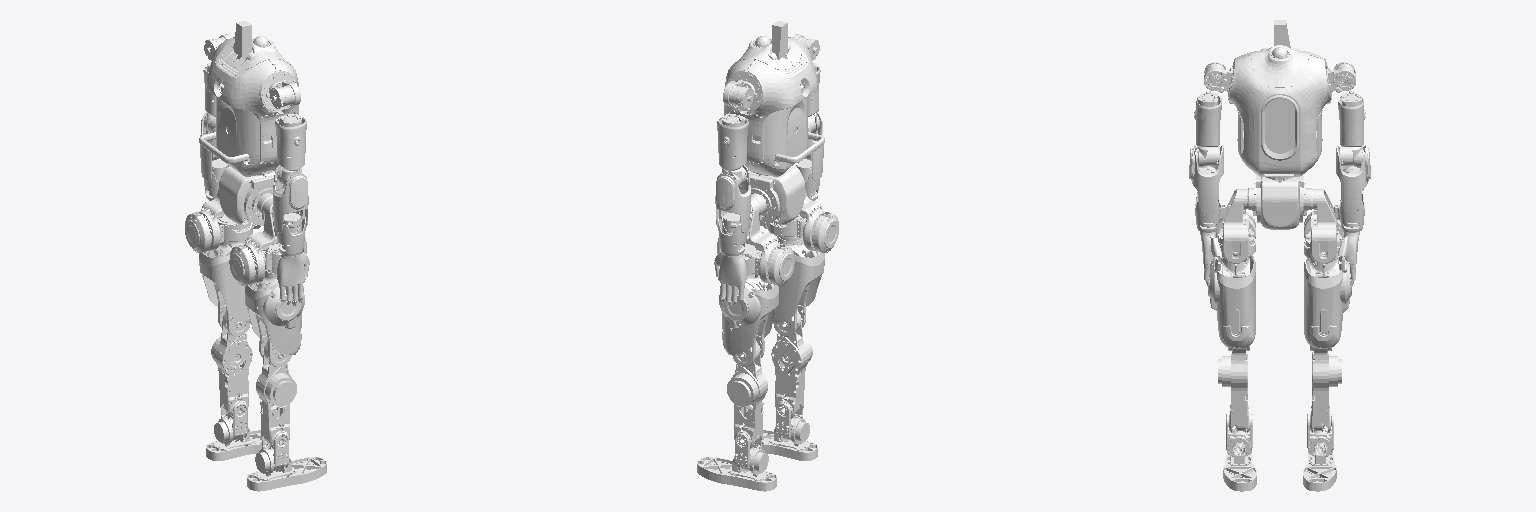
--- What the picture shows (computed from the rendered views, not written in the file) ---
3 views of the same robot in one strip: view 1: azimuth 30°, elevation 25°; view 2: azimuth 150°, elevation 25°; view 3: azimuth 270°, elevation 25° (orthographic).
Model orca_ydescription with 29 links and 28 joints (28 revolute), rooted at base_link, posed all joints at 0.
Links seen in each view (by area): view 1: waist_yaw_link1, rleg_link3, lleg_link3, lleg_link4, rleg_link4, base_link, rleg_link1, rarm_link6, rarm_link3, rleg_link6, lleg_link1, rarm_link4 (+5 smaller); view 2: waist_yaw_link1, lleg_link3, rleg_link3, rleg_link4, lleg_link4, base_link, lleg_link1, larm_link6, larm_link3, lleg_link6, rleg_link1, larm_link4 (+5 smaller); view 3: waist_yaw_link1, rleg_link3, lleg_link3, base_link, lleg_link1, rleg_link1, lleg_link4, rleg_link4, larm_link3, rarm_link3, larm_link4, rarm_link4 (+8 smaller).
Boxes of the visible links, x1,y1,x2,y2 form: waist_yaw_link1: [199, 21, 298, 176]; rleg_link3: [245, 270, 304, 366]; lleg_link3: [199, 240, 250, 336]; lleg_link4: [211, 316, 252, 418]; rleg_link4: [256, 347, 296, 448]; base_link: [219, 163, 284, 225]; rleg_link1: [229, 193, 306, 285]; rarm_link6: [277, 217, 309, 306]; rarm_link3: [275, 114, 306, 186]; rleg_link6: [247, 448, 326, 491]; lleg_link1: [185, 190, 260, 252]; rarm_link4: [273, 165, 308, 232]; waist_yaw_link1: [724, 21, 824, 176]; lleg_link3: [719, 275, 778, 366]; rleg_link3: [773, 236, 824, 336]; rleg_link4: [771, 316, 812, 418]; lleg_link4: [727, 347, 767, 448]; base_link: [739, 166, 804, 225]; lleg_link1: [717, 193, 794, 285]; larm_link6: [714, 217, 746, 306]; larm_link3: [717, 114, 748, 186]; lleg_link6: [697, 448, 776, 491]; rleg_link1: [763, 190, 838, 252]; larm_link4: [715, 165, 750, 232]; waist_yaw_link1: [1228, 20, 1331, 177]; rleg_link3: [1208, 255, 1255, 350]; lleg_link3: [1304, 257, 1351, 350]; base_link: [1254, 174, 1305, 229]; lleg_link1: [1304, 188, 1343, 263]; rleg_link1: [1216, 188, 1255, 263]; lleg_link4: [1310, 348, 1341, 432]; rleg_link4: [1218, 348, 1249, 432]; larm_link3: [1338, 91, 1365, 166]; rarm_link3: [1194, 91, 1221, 166]; larm_link4: [1336, 145, 1370, 211]; rarm_link4: [1189, 145, 1223, 211].
Bounding box of the posed robot: 0.3041 × 0.5169 × 1.38 m (x, y, z).
Meshes: 29 distinct files referenced, 24 mesh visuals loaded (24 binary STL); not drawn: 5 (reference not matched to a file when rendering).

The robot description file, URDF, robot "orca_ydescription":
<?xml version="1.0" encoding="utf-8"?>
<!-- This URDF was automatically created by SolidWorks to URDF Exporter! Originally created by Stephen Brawner ([email redacted]) 
     Commit Version: 1.6.0-4-g7f85cfe  Build Version: 1.6.7995.38578
     For more information, please see http://wiki.ros.org/sw_urdf_exporter -->
<robot
  name="orca_ydescription">
    <mujoco>
        <compiler 
        meshdir="../meshes/" 
        balanceinertia="false" 
        discardvisual="false" />
  </mujoco>
  <link
    name="base_link">
    <inertial>
      <origin
        xyz="-8.47E-05 -9.16E-08 0.009519856"
        rpy="0 0 0" />
      <mass
        value="3.885338638" />
      <inertia
        ixx="0.014183021"
        ixy="-2.03E-06"
        ixz="9.88E-06"
        iyy="0.013799859"
        iyz="-1.06E-07"
        izz="0.014759617" />
    </inertial>
    <visual>
      <origin
        xyz="0 0 0"
        rpy="0 0 0" />
      <geometry>
        <mesh
          filename="../meshes/base_link.STL" />
      </geometry>
      <material
        name="">
        <color
          rgba="1 1 1 1" />
      </material>
    </visual>
    <collision>
      <origin
        xyz="0 0 0"
        rpy="0 0 0" />
      <geometry>
        <mesh
          filename="../meshes/base_link_cls.STL" />
      </geometry>
    </collision>
  </link>
  <link
    name="waist_yaw_link1">
    <inertial>
      <origin
        xyz="-2.46E-05 -0.195013197 0.000228684"
        rpy="0 0 0" />
      <mass
        value="11.03319241" />
      <inertia
        ixx="0.155358264"
        ixy="1.62E-05"
        ixz="1.34E-05"
        iyy="0.065422946"
        iyz="0.00091394"
        izz="0.179385252" />
    </inertial>
    <visual>
      <origin
        xyz="0 0 0"
        rpy="0 0 0" />
      <geometry>
        <mesh
          filename="../meshes/waist_yaw_link1.STL" />
      </geometry>
      <material
        name="">
        <color
          rgba="1 1 1 1" />
      </material>
    </visual>
    <collision>
      <origin
        xyz="0 0 0"
        rpy="-1.571 0 0" />
      <geometry>
        <mesh
          filename="../meshes/waist_yaw_link1_cls.STL" />
      </geometry>
    </collision>
  </link>
  <joint
    name="waist_yaw_joint"
    type="revolute">
    <origin
      xyz="0 0 0.078"
      rpy="-1.570796327 0 1.570796327" />
    <parent
      link="base_link" />
    <child
      link="waist_yaw_link1" />
    <axis
      xyz="0 1 0" />
    <limit
      lower="-1.571"
      upper="1.571"
      effort="36"
      velocity="8.9" />
    <dynamics
      damping="0.2"
      friction="0" />
  </joint>
  <link
    name="larm_link1">
    <inertial>
      <origin
        xyz="0.000439855 0.035850183 7.91E-06"
        rpy="0 0 0" />
      <mass
        value="0.576081" />
      <inertia
        ixx="0.000526742"
        ixy="-6.86E-06"
        ixz="-9.9E-08"
        iyy="0.000441561"
        iyz="9.44E-08"
        izz="0.00059525" />
    </inertial>
    <visual>
      <origin
        xyz="0 0 0"
        rpy="0 0 0" />
      <geometry>
        <mesh
          filename="../meshes/larm_link1.STL" />
      </geometry>
      <material
        name="">
        <color
          rgba="1 1 1 1" />
      </material>
    </visual>
    <collision>
      <origin
        xyz="0 0 0"
        rpy="-1.571 0 0" />
      <geometry>
        <mesh
          filename="../meshes/larm_link1_cls.STL" />
      </geometry>
    </collision>
  </link>
  <joint
    name="larm_joint1"
    type="revolute">
    <origin
      xyz="0.134953079 -0.295908076 0"
      rpy="1.745329252 1.570796327 0" />
    <parent
      link="waist_yaw_link1" />
    <child
      link="larm_link1" />
    <axis
      xyz="0 1 0" />
    <limit
      lower="-2.88"
      upper="2.88"
      effort="94"
      velocity="15.7" />
    <dynamics
      damping="0.2"
      friction="0" />
  </joint>
  <link
    name="larm_link2">
    <inertial>
      <origin
        xyz="-0.025633252 0.000250778 0.015716769"
        rpy="0 0 0" />
      <mass
        value="0.235909411" />
      <inertia
        ixx="0.000407461"
        ixy="1.71E-05"
        ixz="5.62E-05"
        iyy="0.000283692"
        iyz="-5.58E-06"
        izz="0.000496636" />
    </inertial>
    <visual>
      <origin
        xyz="0 0 0"
        rpy="0 0 0" />
      <geometry>
        <mesh
          filename="../meshes/larm_link2.STL" />
      </geometry>
      <material
        name="">
        <color
          rgba="1 1 1 1" />
      </material>
    </visual>
    <collision>
      <origin
        xyz="0 0 0"
        rpy="-1.571 -1.571 0" />
      <geometry>
        <mesh
          filename="../meshes/larm_link2_cls.STL" />
      </geometry>
    </collision>
  </link>
  <joint
    name="larm_joint2"
    type="revolute">
    <origin
      xyz="-0.0015 0.049998667 0"
      rpy="-3.141592654 -1.396263402 1.570796327" />
    <parent
      link="larm_link1" />
    <child
      link="larm_link2" />
    <axis
      xyz="0 1 0" />
    <limit
      lower="-0.17"
      upper="2.62"
      effort="36"
      velocity="8.9" />
    <dynamics
      damping="0.2"
      friction="0" />
  </joint>
  <link
    name="larm_link3">
    <inertial>
      <origin
        xyz="0.000500131 0.089700659 0.003086245"
        rpy="0 0 0" />
      <mass
        value="1.087367475" />
      <inertia
        ixx="0.002488913"
        ixy="1.03E-06"
        ixz="-1.79E-07"
        iyy="0.000722803"
        iyz="-0.000140073"
        izz="0.002308042" />
    </inertial>
    <visual>
      <origin
        xyz="0 0 0"
        rpy="0 0 0" />
      <geometry>
        <mesh
          filename="../meshes/larm_link3.STL" />
      </geometry>
      <material
        name="">
        <color
          rgba="1 1 1 1" />
      </material>
    </visual>
    <collision>
      <origin
        xyz="0 0 0"
        rpy="-1.571 -1.571 0" />
      <geometry>
        <mesh
          filename="../meshes/larm_link3_cls.STL" />
      </geometry>
    </collision>
  </link>
  <joint
    name="larm_joint3"
    type="revolute">
    <origin
      xyz="-0.0645 0 0.020001353"
      rpy="0 0 1.570796327" />
    <parent
      link="larm_link2" />
    <child
      link="larm_link3" />
    <axis
      xyz="0 1 0" />
    <limit
      lower="-2.79"
      upper="2.79"
      effort="36"
      velocity="8.9" />
    <dynamics
      damping="0.2"
      friction="0" />
  </joint>
  <link
    name="larm_link4">
    <inertial>
      <origin
        xyz="0.001911713 0.010161859 -0.056077982"
        rpy="0 0 0" />
      <mass
        value="0.631589507" />
      <inertia
        ixx="0.001429069"
        ixy="1.24E-05"
        ixz="1.98E-05"
        iyy="0.001379818"
        iyz="-0.000144233"
        izz="0.000967363" />
    </inertial>
    <visual>
      <origin
        xyz="0 0 0"
        rpy="0 0 0" />
      <geometry>
        <mesh
          filename="../meshes/larm_link4.STL" />
      </geometry>
      <material
        name="">
        <color
          rgba="1 1 1 1" />
      </material>
    </visual>
    <collision>
      <origin
        xyz="0 0 0"
        rpy="1.571 0 0" />
      <geometry>
        <mesh
          filename="../meshes/larm_link4_cls.STL" />
      </geometry>
    </collision>
  </link>
  <joint
    name="larm_joint4"
    type="revolute">
    <origin
      xyz="0 0.1835 0"
      rpy="1.570796327 0 0" />
    <parent
      link="larm_link3" />
    <child
      link="larm_link4" />
    <axis
      xyz="0 1 0" />
    <limit
      lower="-1.57"
      upper="1.57"
      effort="36"
      velocity="8.9" />
    <dynamics
      damping="0.2"
      friction="0" />
  </joint>
  <link
    name="larm_link5">
    <inertial>
      <origin
        xyz="-0.073159086 0.006187322 3.44E-06"
        rpy="0 0 0" />
      <mass
        value="0.451979036" />
      <inertia
        ixx="0.000269516"
        ixy="-0.000116707"
        ixz="-5.33E-08"
        iyy="0.000529737"
        iyz="2.9E-07"
        izz="0.000579657" />
    </inertial>
    <visual>
      <origin
        xyz="0 0 0"
        rpy="0 0 0" />
      <geometry>
        <mesh
          filename="../meshes/larm_link5.STL" />
      </geometry>
      <material
        name="">
        <color
          rgba="1 1 1 1" />
      </material>
    </visual>
    <collision>
      <origin
        xyz="0 0 0"
        rpy="-1.571 -1.571 0" />
      <geometry>
        <mesh
          filename="../meshes/larm_link5_cls.STL" />
      </geometry>
    </collision>
  </link>
  <joint
    name="larm_joint5"
    type="revolute">
    <origin
      xyz="0 0 -0.075"
      rpy="-1.570796327 -1.570796327 0" />
    <parent
      link="larm_link4" />
    <child
      link="larm_link5" />
    <axis
      xyz="0 1 0" />
    <limit
      lower="-0.35"
      upper="1.57"
      effort="36"
      velocity="8.9" />
    <dynamics
      damping="0.2"
      friction="0" />
  </joint>
  <link
    name="larm_link6">
    <inertial>
      <origin
        xyz="0.000892339 0.105967647 3.11E-05"
        rpy="0 0 0" />
      <mass
        value="0.830188707" />
      <inertia
        ixx="0.002308313"
        ixy="2.57E-05"
        ixz="2.53E-07"
        iyy="0.000612406"
        iyz="6.74E-07"
        izz="0.002014112" />
    </inertial>
    <visual>
      <origin
        xyz="0 0 0"
        rpy="0 0 0" />
      <geometry>
        <mesh
          filename="../meshes/larm_link6.STL" />
      </geometry>
      <material
        name="">
        <color
          rgba="1 1 1 1" />
      </material>
    </visual>
    <collision>
      <origin
        xyz="0 0 0"
        rpy="0 0 0" />
      <geometry>
        <mesh
          filename="../meshes/larm_link6_cls.STL" />
      </geometry>
    </collision>
  </link>
  <joint
    name="larm_joint6"
    type="revolute">
    <origin
      xyz="-0.105 0 0"
      rpy="1.570796327 -1.570796327 0" />
    <parent
      link="larm_link5" />
    <child
      link="larm_link6" />
    <axis
      xyz="0 1 0" />
    <limit
      lower="-2.79"
      upper="2.79"
      effort="36"
      velocity="8.9" />
    <dynamics
      damping="0.2"
      friction="0" />
  </joint>
  <link
    name="rarm_link1">
    <inertial>
      <origin
        xyz="0.000439873 -0.03585016 7.93E-06"
        rpy="0 0 0" />
      <mass
        value="0.576081148" />
      <inertia
        ixx="0.000526742"
        ixy="6.86E-06"
        ixz="-9.88E-08"
        iyy="0.000441561"
        iyz="-9.44E-08"
        izz="0.000595249" />
    </inertial>
    <visual>
      <origin
        xyz="0 0 0"
        rpy="0 0 0" />
      <geometry>
        <mesh
          filename="../meshes/rarm_link1.STL" />
      </geometry>
      <material
        name="">
        <color
          rgba="1 1 1 1" />
      </material>
    </visual>
    <collision>
      <origin
        xyz="0 0 0"
        rpy="1.571 0 0" />
      <geometry>
        <mesh
          filename="../meshes/rarm_link1_cls.STL" />
      </geometry>
    </collision>
  </link>
  <joint
    name="rarm_joint1"
    type="revolute">
    <origin
      xyz="-0.134953079 -0.295908076 0"
      rpy="1.396263402 1.570796327 0" />
    <parent
      link="waist_yaw_link1" />
    <child
      link="rarm_link1" />
    <axis
      xyz="0 1 0" />
    <limit
      lower="-2.88"
      upper="2.88"
      effort="94"
      velocity="15.7" />
    <dynamics
      damping="0.2"
      friction="0" />
  </joint>
  <link
    name="rarm_link2">
    <inertial>
      <origin
        xyz="-0.02563088 0.000253501 -0.015720954"
        rpy="0 0 0" />
      <mass
        value="0.235938732" />
      <inertia
        ixx="0.000407458"
        ixy="1.71E-05"
        ixz="-5.62E-05"
        iyy="0.000283649"
        iyz="5.56E-06"
        izz="0.000496642" />
    </inertial>
    <visual>
      <origin
        xyz="0 0 0"
        rpy="0 0 0" />
      <geometry>
        <mesh
          filename="../meshes/rarm_link2.STL" />
      </geometry>
      <material
        name="">
        <color
          rgba="1 1 1 1" />
      </material>
    </visual>
    <collision>
      <origin
        xyz="0 0 0"
        rpy="-1.571 -1.571 0" />
      <geometry>
        <mesh
          filename="../meshes/rarm_link2_cls.STL" />
      </geometry>
    </collision>
  </link>
  <joint
    name="rarm_joint2"
    type="revolute">
    <origin
      xyz="-0.0015 -0.049998667 0"
      rpy="0 -1.396263402 -1.570796327" />
    <parent
      link="rarm_link1" />
    <child
      link="rarm_link2" />
    <axis
      xyz="0 -1 0" />
    <limit
      lower="-0.17"
      upper="2.62"
      effort="36"
      velocity="8.9" />
    <dynamics
      damping="0.2"
      friction="0" />
  </joint>
  <link
    name="rarm_link3">
    <inertial>
      <origin
        xyz="0.000500342 0.089701323 -0.003086662"
        rpy="0 0 0" />
      <mass
        value="1.087374142" />
      <inertia
        ixx="0.002488887"
        ixy="1.05E-06"
        ixz="1.6E-07"
        iyy="0.000722818"
        iyz="0.000140053"
        izz="0.002308041" />
    </inertial>
    <visual>
      <origin
        xyz="0 0 0"
        rpy="0 0 0" />
      <geometry>
        <mesh
          filename="../meshes/rarm_link3.STL" />
      </geometry>
      <material
        name="">
        <color
          rgba="1 1 1 1" />
      </material>
    </visual>
    <collision>
      <origin
        xyz="0 0 0"
        rpy="-1.571 -1.571 0" />
      <geometry>
        <mesh
          filename="../meshes/rarm_link3_cls.STL" />
      </geometry>
    </collision>
  </link>
  <joint
    name="rarm_joint3"
    type="revolute">
    <origin
      xyz="-0.0645 0 -0.020001353"
      rpy="0 0 1.570796327" />
    <parent
      link="rarm_link2" />
    <child
      link="rarm_link3" />
    <axis
      xyz="0 1 0" />
    <limit
      lower="-2.79"
      upper="2.79"
      effort="36"
      velocity="8.9" />
    <dynamics
      damping="0.2"
      friction="0" />
  </joint>
  <link
    name="rarm_link4">
    <inertial>
      <origin
        xyz="0.001908352 -0.010158385 -0.056080165"
        rpy="0 0 0" />
      <mass
        value="0.631620451" />
      <inertia
        ixx="0.001429094"
        ixy="-1.24E-05"
        ixz="1.98E-05"
        iyy="0.00137982"
        iyz="0.000144214"
        izz="0.000967415" />
    </inertial>
    <visual>
      <origin
        xyz="0 0 0"
        rpy="0 0 0" />
      <geometry>
        <mesh
          filename="../meshes/rarm_link4.STL" />
      </geometry>
      <material
        name="">
        <color
          rgba="1 1 1 1" />
      </material>
    </visual>
    <collision>
      <origin
        xyz="0 0 0"
        rpy="1.571 0 0" />
      <geometry>
        <mesh
          filename="../meshes/rarm_link4_cls.STL" />
      </geometry>
    </collision>
  </link>
  <joint
    name="rarm_joint4"
    type="revolute">
    <origin
      xyz="0 0.1835 0"
      rpy="1.570796327 0 0" />
    <parent
      link="rarm_link3" />
    <child
      link="rarm_link4" />
    <axis
      xyz="0 1 0" />
    <limit
      lower="-1.57"
      upper="1.57"
      effort="36"
      velocity="8.9" />
    <dynamics
      damping="0.2"
      friction="0" />
  </joint>
  <link
    name="rarm_link5">
    <inertial>
      <origin
        xyz="-0.073159111 0.006187367 -3.6E-06"
        rpy="0 0 0" />
      <mass
        value="0.451977745" />
      <inertia
        ixx="0.000269514"
        ixy="-0.000116709"
        ixz="5.33E-08"
        iyy="0.00052974"
        iyz="-2.91E-07"
        izz="0.000579657" />
    </inertial>
    <visual>
      <origin
        xyz="0 0 0"
        rpy="0 0 0" />
      <geometry>
        <mesh
          filename="../meshes/rarm_link5.STL" />
      </geometry>
      <material
        name="">
        <color
          rgba="1 1 1 1" />
      </material>
    </visual>
    <collision>
      <origin
        xyz="0 0 0"
        rpy="-1.571 -1.571 0" />
      <geometry>
        <mesh
          filename="../meshes/rarm_link5_cls.STL" />
      </geometry>
    </collision>
  </link>
  <joint
    name="rarm_joint5"
    type="revolute">
    <origin
      xyz="0 0 -0.075"
      rpy="-1.570796327 -1.570796327 0" />
    <parent
      link="rarm_link4" />
    <child
      link="rarm_link5" />
    <axis
      xyz="0 1 0" />
    <limit
      lower="-0.35"
      upper="1.57"
      effort="36"
      velocity="8.9" />
    <dynamics
      damping="0.2"
      friction="0" />
  </joint>
  <link
    name="rarm_link6">
    <inertial>
      <origin
        xyz="-0.000892336 0.105967653 3.1E-05"
        rpy="0 0 0" />
      <mass
        value="0.830188258" />
      <inertia
        ixx="0.002308314"
        ixy="-2.57E-05"
        ixz="-2.53E-07"
        iyy="0.000612406"
        iyz="6.73E-07"
        izz="0.002014112" />
    </inertial>
    <visual>
      <origin
        xyz="0 0 0"
        rpy="0 0 0" />
      <geometry>
        <mesh
          filename="../meshes/rarm_link6.STL" />
      </geometry>
      <material
        name="">
        <color
          rgba="1 1 1 1" />
      </material>
    </visual>
    <collision>
      <origin
        xyz="0 0 0"
        rpy="0 0 0" />
      <geometry>
        <mesh
          filename="../meshes/rarm_link6_cls.STL" />
      </geometry>
    </collision>
  </link>
  <joint
    name="rarm_joint6"
    type="revolute">
    <origin
      xyz="-0.105 0 0"
      rpy="1.570796327 -1.570796327 0" />
    <parent
      link="rarm_link5" />
    <child
      link="rarm_link6" />
    <axis
      xyz="0 1 0" />
    <limit
      lower="-2.79"
      upper="2.79"
      effort="36"
      velocity="8.9" />
    <dynamics
      damping="0.2"
      friction="0" />
  </joint>
  <link
    name="head_link1">
    <inertial>
      <origin
        xyz="0 0 0"
        rpy="0 0 0" />
      <mass
        value="0.000534071" />
      <inertia
        ixx="5.34E-09"
        ixy="5.17E-26"
        ixz="1.62E-40"
        iyy="5.34E-09"
        iyz="2.37E-41"
        izz="5.34E-09" />
    </inertial>
    <visual>
      <origin
        xyz="0 0 0"
        rpy="0 0 0" />
      <geometry>
        <mesh
          filename="../meshes/head_link1.STL" />
      </geometry>
      <material
        name="">
        <color
          rgba="1 1 1 1" />
      </material>
    </visual>
    <collision>
      <origin
        xyz="0 0 0"
        rpy="0 0 0" />
      <geometry>
        <mesh
          filename="../meshes/head_link1.STL" />
      </geometry>
    </collision>
  </link>
  <joint
    name="head_joint1"
    type="revolute">
    <origin
      xyz="0 -0.4656 -0.0086"
      rpy="-1.571 -1.571 0" />
    <parent
      link="waist_yaw_link1" />
    <child
      link="head_link1" />
    <axis
      xyz="1 0 0" />
    <limit
      lower="-0.349"
      upper="0.349"
      effort="3"
      velocity="8" />
    <dynamics
      damping="0.2"
      friction="0" />
  </joint>
  <link
    name="head_link2">
    <inertial>
      <origin
        xyz="1.11E-16 2.43E-17 0"
        rpy="0 0 0" />
      <mass
        value="0.000534071" />
      <inertia
        ixx="5.34E-09"
        ixy="3.88E-26"
        ixz="5.74E-42"
        iyy="5.34E-09"
        iyz="-9.95E-41"
        izz="5.34E-09" />
    </inertial>
    <visual>
      <origin
        xyz="0 0 0"
        rpy="0 0 0" />
      <geometry>
        <mesh
          filename="../meshes/head_link2.STL" />
      </geometry>
      <material
        name="">
        <color
          rgba="1 1 1 1" />
      </material>
    </visual>
    <collision>
      <origin
        xyz="0 0 0"
        rpy="0 0 0" />
      <geometry>
        <mesh
          filename="../meshes/head_link2.STL" />
      </geometry>
    </collision>
  </link>
  <joint
    name="head_joint2"
    type="revolute">
    <!-- <origin
      xyz="0 0 0"
      rpy="1.570796327 -1.527598468 -1.425482991" /> -->
    <origin
      xyz="0 0 0"
      rpy="1.570796327 -1.5707 -1.5707" />
    <parent
      link="head_link1" />
    <child
      link="head_link2" />
    <axis
      xyz="0 1 0" />
    <limit
      lower="-0.349"
      upper="0.349"
      effort="3"
      velocity="8" />
    <dynamics
      damping="0.2"
      friction="0" />
  </joint>
  <link
    name="head_link3">
    <inertial>
      <origin
        xyz="-0.000672526 -8.45E-05 0.04525922"
        rpy="0 0 0" />
      <mass
        value="0.960823777" />
      <inertia
        ixx="0.004598234"
        ixy="2.38E-07"
        ixz="2.43E-05"
        iyy="0.002226063"
        iyz="5.69E-07"
        izz="0.004802875" />
    </inertial>
    <visual>
      <origin
        xyz="0 0 0"
        rpy="0 0 0" />
      <geometry>
        <mesh
          filename="../meshes/head_link3.STL" />
      </geometry>
      <material
        name="">
        <color
          rgba="1 1 1 1" />
      </material>
    </visual>
    <collision>
      <origin
        xyz="0 0 0"
        rpy="0 0 0" />
      <geometry>
        <mesh
          filename="../meshes/head_link3.STL" />
      </geometry>
    </collision>
  </link>
  <joint
    name="head_joint3"
    type="revolute">
    <!-- <origin
      xyz="0 0 0"
      rpy="0.043197859 -1.570796327 0" /> -->
    <origin
      xyz="0 0 0"
      rpy="3.142 -1.570796327 0" />
    <parent
      link="head_link2" />
    <child
      link="head_link3" />
    <axis
      xyz="0 0 1" />
    <limit
      lower="-0.523"
      upper="0.349"
      effort="3"
      velocity="8" />
    <dynamics
      damping="0.2"
      friction="0" />
  </joint>
  <link
    name="lleg_link1">
    <inertial>
          <origin
            xyz="-0.0414231544911224 -0.00514312296824225 -0.0912263689528675"
            rpy="0 0 0" />
          <mass
            value="1.86152386862835" />
          <inertia
            ixx="0.00788495380545202"
            ixy="0.000390927666606671"
            ixz="-0.0037428777228417"
            iyy="0.0134626686367762"
            iyz="0.000913004782821924"
            izz="0.00858048562013347" />
        </inertial>
    <visual>
      <origin
        xyz="0 0 0"
        rpy="0 0 0" />
      <geometry>
        <mesh
          filename="../meshes/lleg_link1.STL" />
      </geometry>
      <material
        name="">
        <color
          rgba="1 1 1 1" />
      </material>
    </visual>
    <collision>
      <origin
        xyz="0 0 0"
        rpy="-1.571 0 0" />
      <geometry>
        <mesh
          filename="../meshes/lleg_link1_cls.STL" />
      </geometry>
    </collision>
  </link>
  <joint
    name="lleg_joint1"
    type="revolute">
    <origin
      xyz="0 0.125 0"
      rpy="0 0 0" />
    <parent
      link="base_link" />
    <child
      link="lleg_link1" />
    <axis
      xyz="0 -1 0" />
    <limit
      lower="-1.22"
      upper="1.92"
      effort="150"
      velocity="14.65" />
    <dynamics
      damping="0.2"
      friction="0" />
  </joint>
  <link
    name="lleg_link2">
    <inertial>
      <origin
        xyz="-0.006954122 -0.00602969 5.86E-06"
        rpy="0 0 0" />
      <mass
        value="1.300432803" />
      <inertia
        ixx="0.002954606"
        ixy="4.07E-05"
        ixz="-1.18E-06"
        iyy="0.001657068"
        iyz="-1.51E-05"
        izz="0.002286791" />
    </inertial>
    <visual>
      <origin
        xyz="0 0 0"
        rpy="0 0 0" />
      <geometry>
        <mesh
          filename="../meshes/lleg_link2.STL" />
      </geometry>
      <material
        name="">
        <color
          rgba="1 1 1 1" />
      </material>
    </visual>
    <collision>
      <origin
        xyz="0 0 0"
        rpy="0 0 0" />
      <geometry>
        <mesh
          filename="../meshes/lleg_link2_cls.STL" />
      </geometry>
    </collision>
  </link>
  <joint
    name="lleg_joint2"
    type="revolute">
    <origin
      xyz="0 0 -0.1415"
      rpy="-1.570796327 -1.570796327 0" />
    <parent
      link="lleg_link1" />
    <child
      link="lleg_link2" />
    <axis
      xyz="0 -1 0" />
    <limit
      lower="-1.57"
      upper="0.26"
      effort="94"
      velocity="15.7" />
    <dynamics
      damping="0.2"
      friction="0" />
  </joint>
  <link
    name="lleg_link3">
    <inertial>
      <origin
        xyz="-0.003193462 0.118677095 0.011628846"
        rpy="0 0 0" />
      <mass
        value="3.1861688" />
      <inertia
        ixx="0.017966441"
        ixy="-0.001615058"
        ixz="0.000327065"
        iyy="0.007797636"
        iyz="0.001538728"
        izz="0.018560511" />
    </inertial>
    <visual>
      <origin
        xyz="0 0 0"
        rpy="0 0 0" />
      <geometry>
        <mesh
          filename="../meshes/lleg_link3.STL" />
      </geometry>
      <material
        name="">
        <color
          rgba="1 1 1 1" />
      </material>
    </visual>
    <collision>
      <origin
        xyz="0 0 0"
        rpy="-1.571 0 0" />
      <geometry>
        <mesh
          filename="../meshes/lleg_link3_cls.STL" />
      </geometry>
    </collision>
  </link>
  <joint
    name="lleg_joint3"
    type="revolute">
    <origin
      xyz="-0.0275 0 0"
      rpy="0 0 1.570796327" />
    <parent
      link="lleg_link2" />
    <child
      link="lleg_link3" />
    <axis
      xyz="0 1 0" />
    <limit
      lower="-2.6"
      upper="0.44"
      effort="94"
      velocity="15.7" />
    <dynamics
      damping="0.2"
      friction="0" />
  </joint>
  <link
    name="lleg_link4">
    <inertial>
      <origin
        xyz="-0.00152225065184456 0.00361293636958301 -0.132559591969628"
        rpy="0 0 0" />
      <mass
        value="1.83999293748654" />
      <inertia
        ixx="0.0108841825322086"
        ixy="3.26789708116387E-05"
        ixz="6.26384201397711E-06"
        iyy="0.0107317521963956"
        iyz="-0.000774034714238863"
        izz="0.00187312853479281" />
    </inertial>
    <visual>
      <origin
        xyz="0 0 0"
        rpy="0 0 0" />
      <geometry>
        <mesh
          filename="../meshes/lleg_link4.STL" />
      </geometry>
      <material
        name="">
        <color
          rgba="1 1 1 1" />
      </material>
    </visual>
    <collision>
      <origin
        xyz="0 0 0"
        rpy="1.57 0 3.14" />
      <geometry>
        <mesh
          filename="../meshes/lleg_link4_cls.STL" />
      </geometry>
    </collision>
  </link>
  <joint
    name="lleg_joint4"
    type="revolute">
    <origin
      xyz="0 0.267721631 0"
      rpy="1.570796327 0 0" />
    <parent
      link="lleg_link3" />
    <child
      link="lleg_link4" />
    <axis
      xyz="0 -1 0" />
    <limit
      lower="-2.093"
      upper="0.614"
      effort="150"
      velocity="14.65" />
    <dynamics
      damping="0.2"
      friction="0" />
  </joint>
  <link
    name="lleg_link5">
   <inertial>
      <origin
        xyz="-0.0116562233297665 -6.36324763887697E-09 -0.0639780361362227"
        rpy="0 0 0" />
      <mass
        value="0.815248914632693" />
      <inertia
        ixx="0.00082295416547413"
        ixy="-1.34051192048482E-09"
        ixz="-6.66083044645393E-05"
        iyy="0.000796113865945101"
        iyz="8.17247670208792E-11"
        izz="0.000672385880513338" />
    </inertial>
    <visual>
      <origin
        xyz="0 0 0"
        rpy="0 0 0" />
      <geometry>
        <mesh
          filename="../meshes/lleg_link5.STL" />
      </geometry>
      <material
        name="">
        <color
          rgba="1 1 1 1" />
      </material>
    </visual>
    <collision>
      <origin
        xyz="0 0 0"
        rpy="1.57 0 1.57" />
      <geometry>
        <mesh
          filename="../meshes/lleg_link5_cls.STL" />
      </geometry>
    </collision>
  </link>
  <joint
    name="lleg_joint5"
    type="revolute">
    <origin
      xyz="0 -0.00899999999999999 -0.262"
      rpy="0 0 0" />
    <parent
      link="lleg_link4" />
    <child
      link="lleg_link5" />
    <axis
      xyz="0 -1 0" />
    <!-- <limit
      lower="-0.56"
      upper="0.45"
      effort="36"
      velocity="8.9" /> -->
   <limit
      lower="-1.57"
      upper="1.57"
      effort="60"
      velocity="13.188" />
    <dynamics
      damping="0.2"
      friction="0" />
  </joint>
  <link
    name="lleg_link6">
    <inertial>
      <origin
        xyz="0.0329782831091455 -0.00171847078047017 -0.0558702414044165"
        rpy="0 0 0" />
      <mass
        value="0.434267885629283" />
      <inertia
        ixx="0.000334685855038701"
        ixy="7.20797699185881E-05"
        ixz="6.83506213943439E-05"
        iyy="0.00201538958940841"
        iyz="-3.73049296534096E-06"
        izz="0.0021371210371888" />
    </inertial>
    <visual>
      <origin
        xyz="0 0 0"
        rpy="0 0 0" />
      <geometry>
        <mesh
          filename="../meshes/lleg_link6.STL" />
      </geometry>
      <material
        name="">
        <color
          rgba="1 1 1 1" />
      </material>
    </visual>
    <collision>
      <origin
        xyz="0 0 0"
        rpy="1.57 0 1.57" />
      <geometry>
        <mesh
          filename="../meshes/lleg_link6_cls.STL" />
      </geometry>
    </collision>
  </link>
  <joint
    name="lleg_joint6"
    type="revolute">
    <origin
      xyz="0.0105 0 -0.0710000000000001"
      rpy="0 0 0" />
    <parent
      link="lleg_link5" />
    <child
      link="lleg_link6" />
    <axis
      xyz="1 0 0" />
   <limit
      lower="-0.61"
      upper="0.61"
      effort="36"
      velocity="8.164" />
    <dynamics
      damping="0.2"
      friction="0" />
  </joint>
  <link
    name="rleg_link1">
    <inertial>
      <origin
        xyz="-0.041423 0.0051432 -0.091227"
        rpy="0 0 0" />
      <mass
        value="1.8615" />
      <inertia
        ixx="0.007885"
        ixy="-0.00039093"
        ixz="-0.0037429"
        iyy="0.013463"
        iyz="-0.00091301"
        izz="0.0085805" />
    </inertial>
    <visual>
      <origin
        xyz="0 0 0"
        rpy="0 0 0" />
      <geometry>
        <mesh
          filename="../meshes/rleg_link1.STL" />
      </geometry>
      <material
        name="">
        <color
          rgba="1 1 1 1" />
      </material>
    </visual>
    <collision>
      <origin
        xyz="0 0 0"
        rpy="1.571 3.1416 0" />
      <geometry>
        <mesh
          filename="../meshes/rleg_link1_cls.STL" />
      </geometry>
    </collision>
  </link>
  <joint
    name="rleg_joint1"
    type="revolute">
    <origin
      xyz="0 -0.125 0"
      rpy="0 0 0" />
    <parent
      link="base_link" />
    <child
      link="rleg_link1" />
    <axis
      xyz="0 -1 0" />
    <limit
      lower="-1.22"
      upper="1.92"
      effort="150"
      velocity="14.65" />
    <dynamics
      damping="0.2"
      friction="0" />
  </joint>
  <link
    name="rleg_link2">
    <inertial>
      <origin
        xyz="0.006046 0.0038573 -5.86E-06"
        rpy="0 0 0" />
      <mass
        value="1.3004" />
      <inertia
        ixx="0.0029546"
        ixy="4.07E-05"
        ixz="1.19E-06"
        iyy="0.001657"
        iyz="1.51E-05"
        izz="0.0022868" />
    </inertial>
    <visual>
      <origin
        xyz="0 0 0"
        rpy="0 0 0" />
      <geometry>
        <mesh
          filename="../meshes/rleg_link2.STL" />
      </geometry>
      <material
        name="">
        <color
          rgba="1 1 1 1" />
      </material>
    </visual>
    <collision>
      <origin
        xyz="0 0 0"
        rpy="0 3.1416 0" />
      <geometry>
        <mesh
          filename="../meshes/rleg_link2_cls.STL" />
      </geometry>
    </collision>
  </link>
  <joint
    name="rleg_joint2"
    type="revolute">
    <!-- <origin
      xyz="-0.009887084 0 -0.1545"
      rpy="-1.570796327 -1.570796327 0" /> -->
    <origin
      xyz="0 0 -0.1415"
      rpy="-1.570796327 -1.570796327 0" />
    <parent
      link="rleg_link1" />
    <child
      link="rleg_link2" />
    <axis
      xyz="0 1 0" />
    <limit
      lower="-1.57"
      upper="0.26"
      effort="94"
      velocity="15.7" />
    <dynamics
      damping="0.2"
      friction="0" />
  </joint>
  <link
    name="rleg_link3">
    <inertial>
      <origin
        xyz="-0.003193895 0.118677583 0.011629722"
        rpy="0 0 0" />
      <mass
        value="3.186287653" />
      <inertia
        ixx="0.017966915"
        ixy="-0.001614775"
        ixz="-0.000327007"
        iyy="0.007797823"
        iyz="-0.001538767"
        izz="0.018561129" />
    </inertial>
    <visual>
      <origin
        xyz="0 0 0"
        rpy="0 0 0" />
      <geometry>
        <mesh
          filename="../meshes/rleg_link3.STL" />
      </geometry>
      <material
        name="">
        <color
          rgba="1 1 1 1" />
      </material>
    </visual>
    <collision>
      <origin
        xyz="0 0 0"
        rpy="-1.571 3.1416 0" />
      <geometry>
        <mesh
          filename="../meshes/rleg_link3_cls.STL" />
      </geometry>
    </collision>
  </link>
  <joint
    name="rleg_joint3"
    type="revolute">
    <!-- <origin
      xyz="-0.0145 0.009887084 0"
      rpy="0 0 1.570796327" /> -->
    <origin
      xyz="-0.0275 0 0"
      rpy="0 0 1.570796327" />
    <parent
      link="rleg_link2" />
    <child
      link="rleg_link3" />
    <axis
      xyz="0 -1 0" />
    <limit
      lower="-2.6"
      upper="0.44"
      effort="94"
      velocity="15.7" />
    <dynamics
      damping="0.2"
      friction="0" />
  </joint>
  <link
    name="rleg_link4">
     <inertial>
      <origin
        xyz="-0.00152224198898753 -0.00361293807887636 -0.132559598337074"
        rpy="0 0 0" />
      <mass
        value="1.83999283796375" />
      <inertia
        ixx="0.0108841810313571"
        ixy="-3.26794362840042E-05"
        ixz="6.26554151584445E-06"
        iyy="0.0107317506544257"
        iyz="0.000774034556495078"
        izz="0.00187312795377983" />
    </inertial>
    <visual>
      <origin
        xyz="0 0 0"
        rpy="0 0 0" />
      <geometry>
        <mesh
          filename="../meshes/rleg_link4.STL" />
      </geometry>
      <material
        name="">
        <color
          rgba="1 1 1 1" />
      </material>
    </visual>
    <collision>
      <origin
        xyz="0 0 0"
        rpy="1.57 0 3.14" />
      <geometry>
        <mesh
          filename="../meshes/rleg_link4_cls.STL" />
      </geometry>
    </collision>
  </link>
  <joint
    name="rleg_joint4"
    type="revolute">
    <origin
      xyz="0 0.267721631 0"
      rpy="1.571 0 0" />
    <parent
      link="rleg_link3" />
    <child
      link="rleg_link4" />
    <axis
      xyz="0 -1 0" />
    <limit
      lower="-2.093"
      upper="0.614"
      effort="150"
      velocity="14.65" />
    <dynamics
      damping="0.2"
      friction="0" />
  </joint>
   <link
    name="rleg_link5">
   <inertial>
      <origin
        xyz="-0.011656 -6.3716E-09 -0.063978"
        rpy="0 0 0" />
      <mass
        value="0.81525" />
      <inertia
        ixx="0.00082295"
        ixy="-1.3405E-09"
        ixz="-6.6608E-05"
        iyy="0.00079611"
        iyz="8.2102E-11"
        izz="0.00067239" />
    </inertial>
    <visual>
      <origin
        xyz="0 0 0"
        rpy="0 0 0" />
      <geometry>
        <mesh
          filename="../meshes/rleg_link5.STL" />
      </geometry>
      <material
        name="">
        <color
          rgba="1 1 1 1" />
      </material>
    </visual>
    <collision>
      <origin
        xyz="0 0 0"
        rpy="1.57 0 1.57" />
      <geometry>
        <mesh
          filename="../meshes/rleg_link5_cls.STL" />
      </geometry>
    </collision>
  </link>
  <joint
    name="rleg_joint5"
    type="revolute">
    <origin
      xyz="0 0.009 -0.262"
      rpy="0 0 0" />
    <parent
      link="rleg_link4" />
    <child
      link="rleg_link5" />
    <axis
      xyz="0 -1 0" />
    <limit
      lower="-1.57"
      upper="1.57"
      effort="60"
      velocity="13.188" />
    <dynamics
      damping="0.2" 
      friction="0"/>
  </joint>
  <link
    name="rleg_link6">
   <inertial>
      <origin
        xyz="0.0329972527999862 0.00171980256045553 -0.0558710536369997"
        rpy="0 0 0" />
      <mass
        value="0.434289966675498" />
      <inertia
        ixx="0.000334748816151449"
        ixy="-7.21677807280528E-05"
        ixz="6.83693729510625E-05"
        iyy="0.00201586715973069"
        iyz="3.72090657692404E-06"
        izz="0.00213763863113348" />
    </inertial>
    <visual>
      <origin
        xyz="0 0 0"
        rpy="0 0 0" />
      <geometry>
        <mesh
          filename="../meshes/rleg_link6.STL" />
      </geometry>
      <material
        name="">
        <color
          rgba="1 1 1 1" />
      </material>
    </visual>
    <collision>
      <origin
        xyz="0 0 0"
        rpy="1.57 0 1.57" />
      <geometry>
        <mesh
          filename="../meshes/rleg_link6_cls.STL" />
      </geometry>
    </collision>
  </link>
  <joint
    name="rleg_joint6"
    type="revolute">
    <origin
      xyz="0.0105 0 -0.071"
      rpy="0 0 0" />
    <parent
      link="rleg_link5" />
    <child
      link="rleg_link6" />
    <axis
      xyz="1 0 0" />
    <limit
      lower="-0.61"
      upper="0.61"
      effort="36"
      velocity="8.164" />
    <dynamics
      damping="0.2"
      friction="0" />
  </joint>
</robot>
